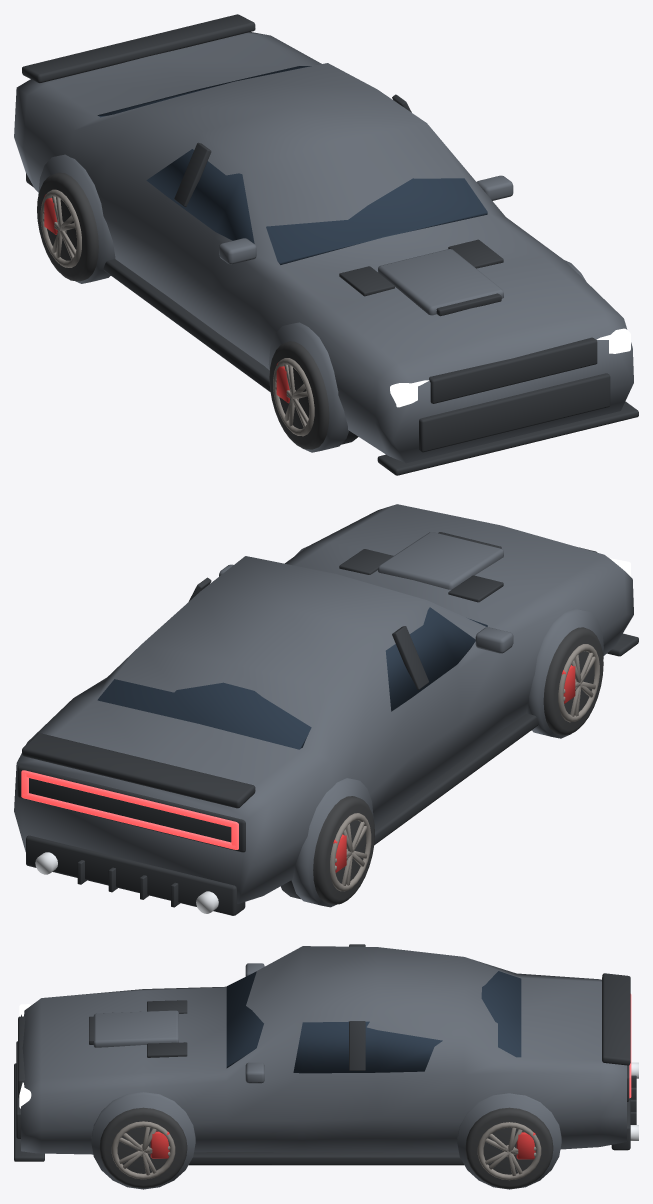
Rendered from dodge_charger.glb.
3 renders of one model, top to bottom at view 1: azimuth 30°, elevation 25°; view 2: azimuth 150°, elevation 25°; view 3: azimuth 270°, elevation 25°, orthographic. The views are drawn at different scales.
Visible parts, largest first — view 1: charger_body, charger_glass, lower_grille, rear_spoiler, upper_grille, hood_scoop_outer, side_skirt_-1, wheel_rl_tire, wheel_fl_tire, front_splitter, flare_-1_-1.5, flare_-1_1.6 (+7 smaller); view 2: charger_body, charger_glass, rear_spoiler, rear_diffuser, rear_bezel, hood_scoop_outer, side_skirt_-1, wheel_rl_tire, wheel_fl_tire, flare_-1_-1.5, flare_-1_1.6, racetrack_top (+7 smaller); view 3: charger_body, charger_glass, side_skirt_1, wheel_rr_tire, wheel_fr_tire, hood_scoop_outer, rear_spoiler, flare_1_-1.5, flare_1_1.6, wheel_fr_lip, wheel_rr_lip, b_pillar_1 (+7 smaller).
Part boxes in pixels (x1=…): charger_body: x1=14, y1=32, x2=633, y2=463; charger_glass: x1=97, y1=66, x2=487, y2=264; lower_grille: x1=419, y1=373, x2=610, y2=452; rear_spoiler: x1=22, y1=14, x2=255, y2=83; upper_grille: x1=429, y1=337, x2=597, y2=403; hood_scoop_outer: x1=378, y1=249, x2=503, y2=315; side_skirt_-1: x1=103, y1=259, x2=270, y2=391; wheel_rl_tire: x1=37, y1=172, x2=98, y2=281; wheel_fl_tire: x1=269, y1=341, x2=329, y2=449; front_splitter: x1=377, y1=401, x2=638, y2=475; flare_-1_-1.5: x1=268, y1=322, x2=348, y2=452; flare_-1_1.6: x1=38, y1=154, x2=115, y2=283; charger_body: x1=14, y1=504, x2=633, y2=903; charger_glass: x1=97, y1=607, x2=487, y2=749; rear_spoiler: x1=22, y1=733, x2=255, y2=808; rear_diffuser: x1=26, y1=835, x2=245, y2=915; rear_bezel: x1=17, y1=765, x2=245, y2=852; hood_scoop_outer: x1=378, y1=532, x2=503, y2=589; side_skirt_-1: x1=374, y1=713, x2=538, y2=844; wheel_rl_tire: x1=313, y1=796, x2=374, y2=904; wheel_fl_tire: x1=543, y1=627, x2=603, y2=735; flare_-1_-1.5: x1=526, y1=608, x2=604, y2=738; flare_-1_1.6: x1=291, y1=778, x2=373, y2=907; racetrack_top: x1=22, y1=770, x2=237, y2=827; charger_body: x1=21, y1=946, x2=626, y2=1154; charger_glass: x1=226, y1=971, x2=521, y2=1073; side_skirt_1: x1=189, y1=1152, x2=463, y2=1165; wheel_rr_tire: x1=465, y1=1107, x2=553, y2=1188; wheel_fr_tire: x1=99, y1=1107, x2=187, y2=1188; hood_scoop_outer: x1=93, y1=1010, x2=178, y2=1047; rear_spoiler: x1=602, y1=973, x2=630, y2=1065; flare_1_-1.5: x1=91, y1=1092, x2=195, y2=1189; flare_1_1.6: x1=457, y1=1093, x2=561, y2=1189; wheel_fr_lip: x1=111, y1=1121, x2=175, y2=1179; wheel_rr_lip: x1=477, y1=1122, x2=541, y2=1180; b_pillar_1: x1=349, y1=1021, x2=365, y2=1070.
Bounding box in the file's own units: 2.26 × 1.48 × 5.26.
